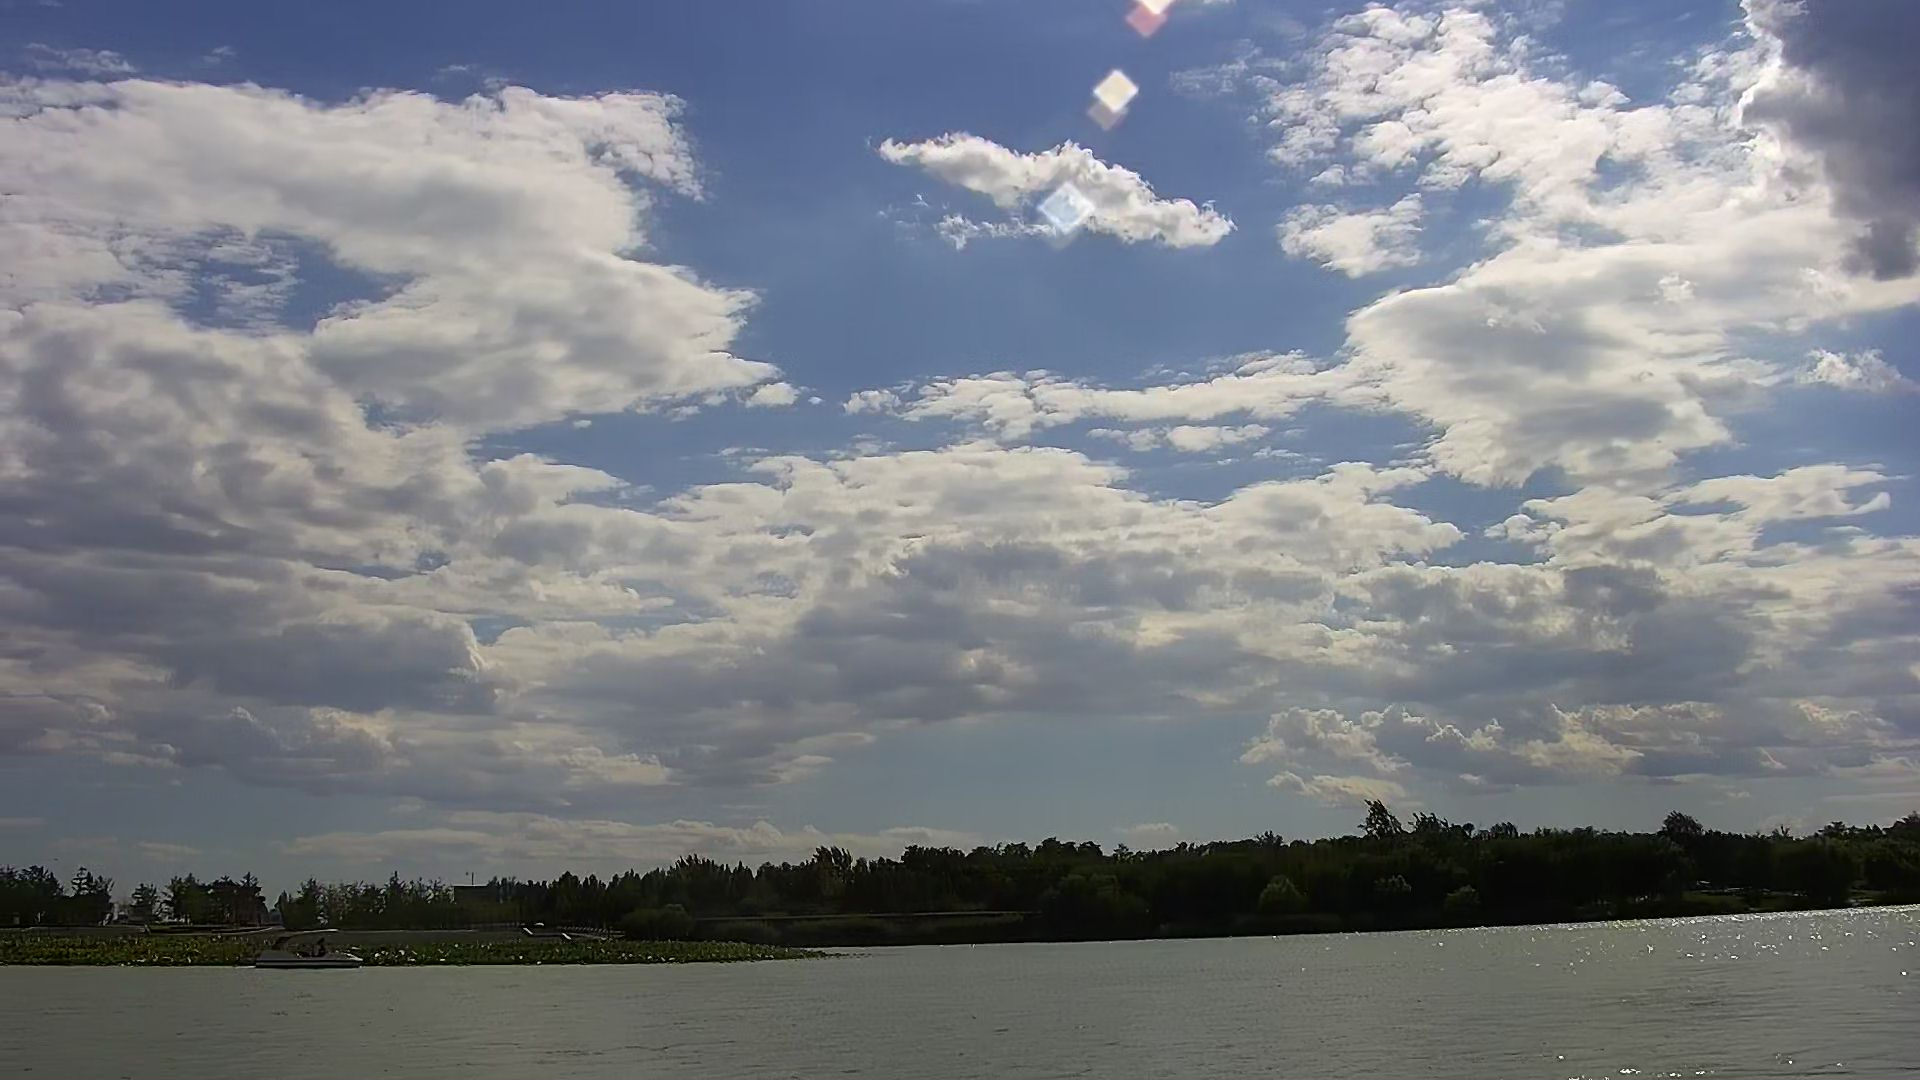boat: (248, 924, 373, 975)
